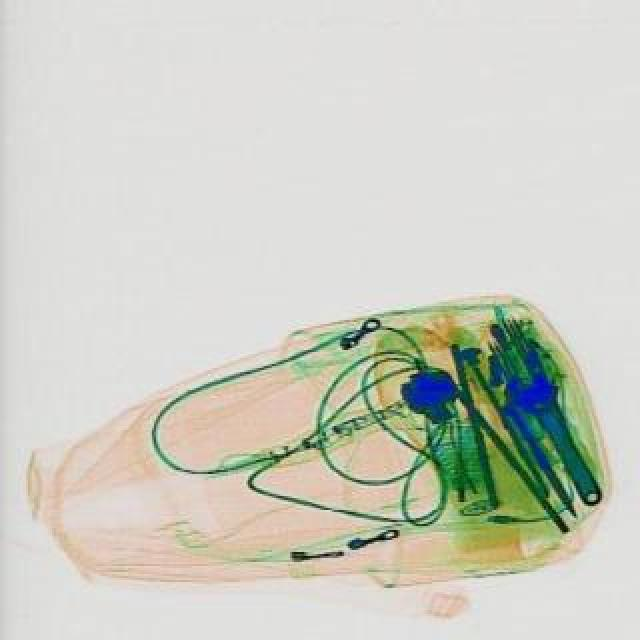scissors: (502, 362, 608, 510)
